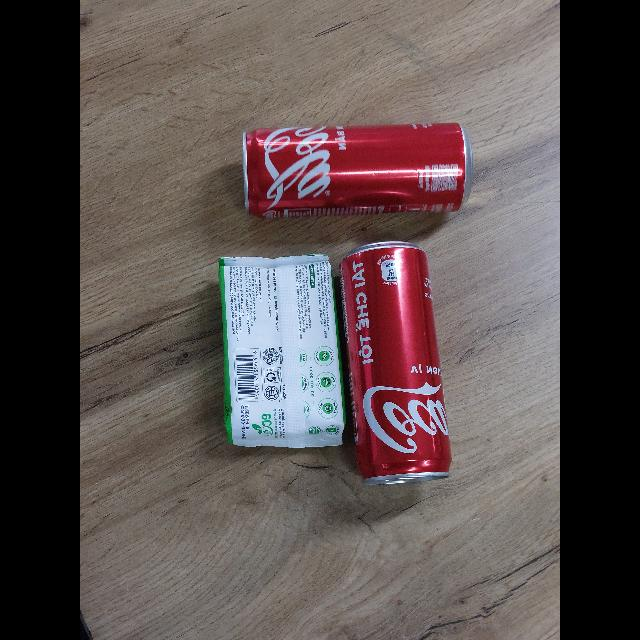coca_cola: (341, 242, 451, 484), (243, 123, 472, 218)
khan_giay: (219, 255, 345, 448)
